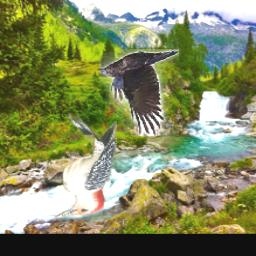Crow: (99, 49, 179, 136)
Woodpecker: (51, 114, 116, 219)
